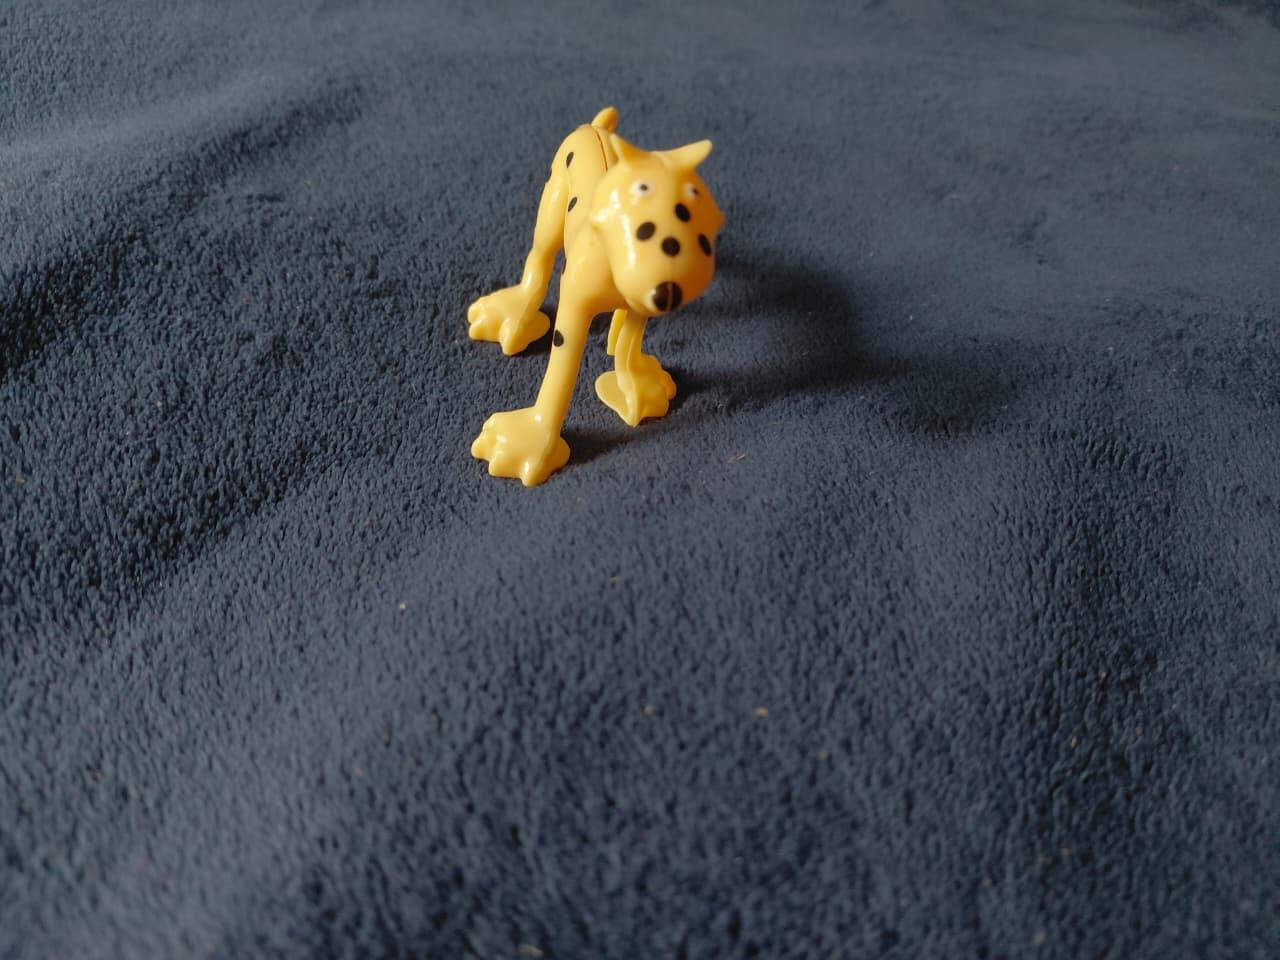cheetah: (454, 89, 739, 487)
